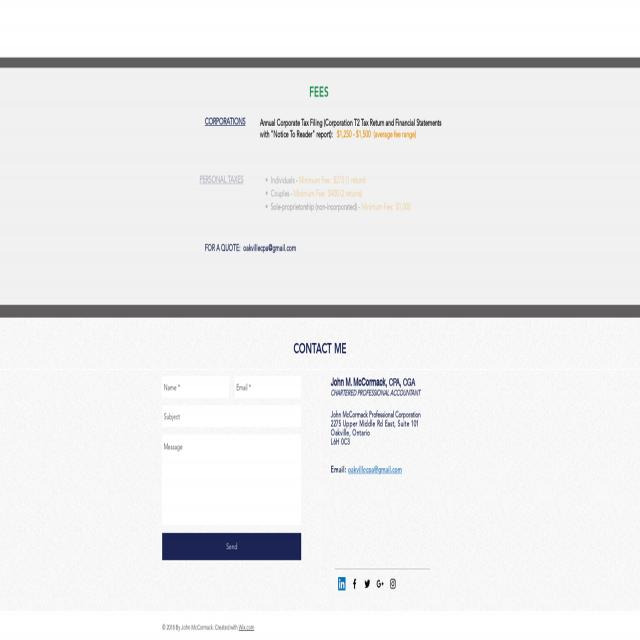button: (162, 533, 302, 560), (338, 577, 346, 590), (363, 577, 371, 590), (376, 577, 384, 590), (389, 577, 397, 590), (351, 577, 358, 590)
field: (162, 434, 300, 530), (162, 406, 302, 427), (162, 376, 229, 398), (235, 376, 301, 398)
